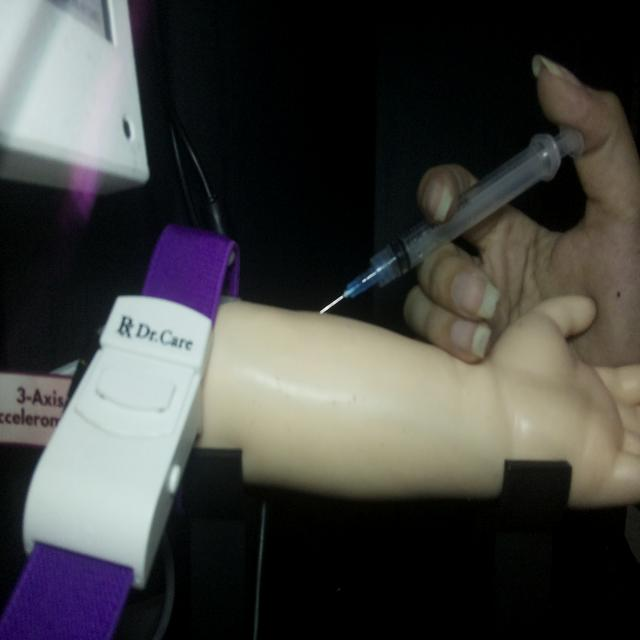23 degrees: (317, 121, 585, 316)
